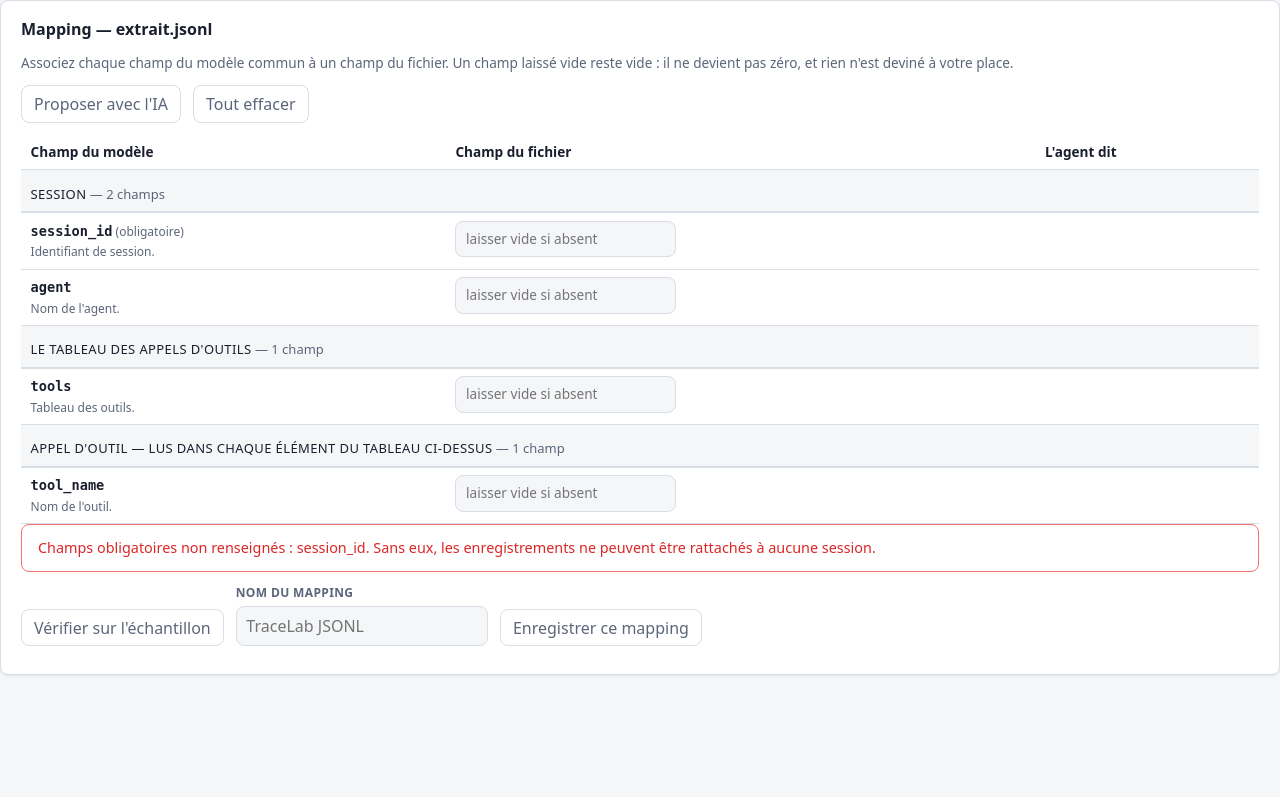
Scenario: MappingEditor — l'essai à blanc › montre ce que l'import produirait
In the field named "Champ du fichier pour session_id": (566,239) [455, 221, 676, 257], type "sid"
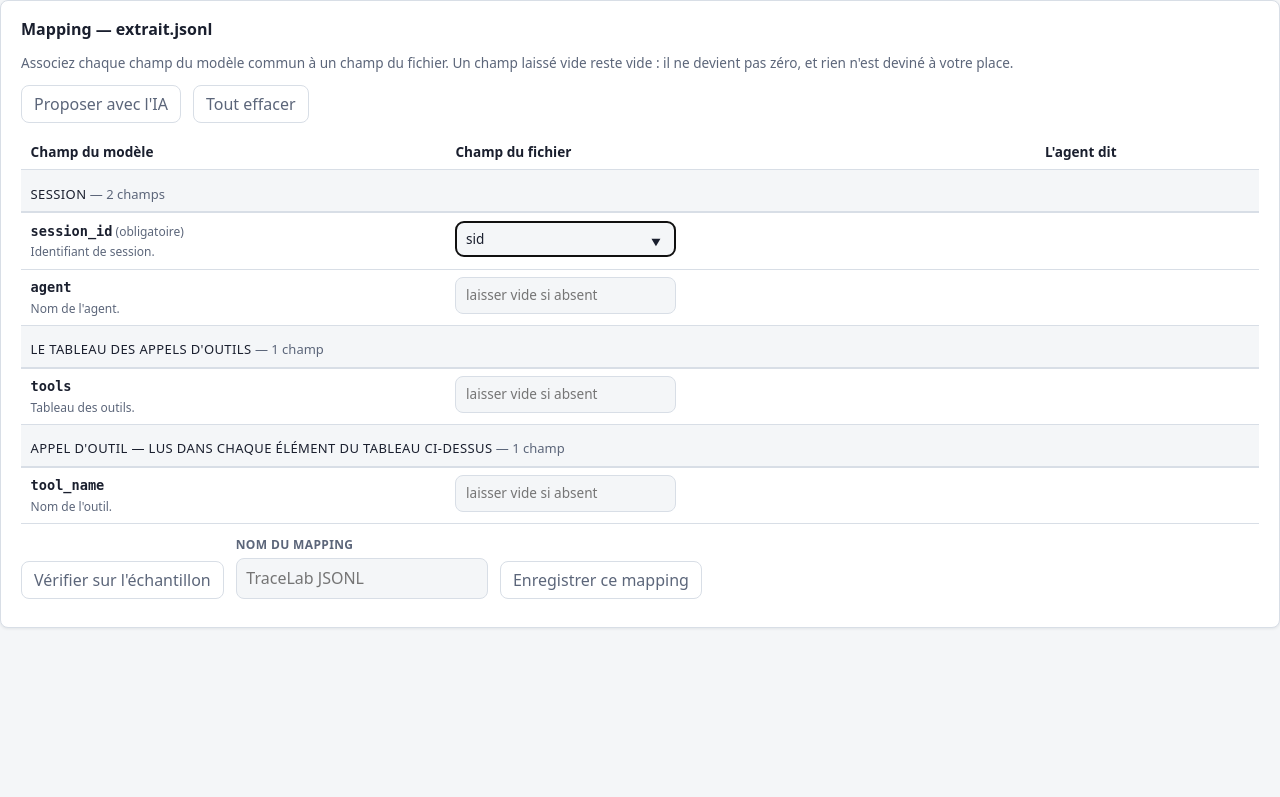
Click the button "Vérifier sur l'échantillon": (122,580) [21, 561, 224, 599]
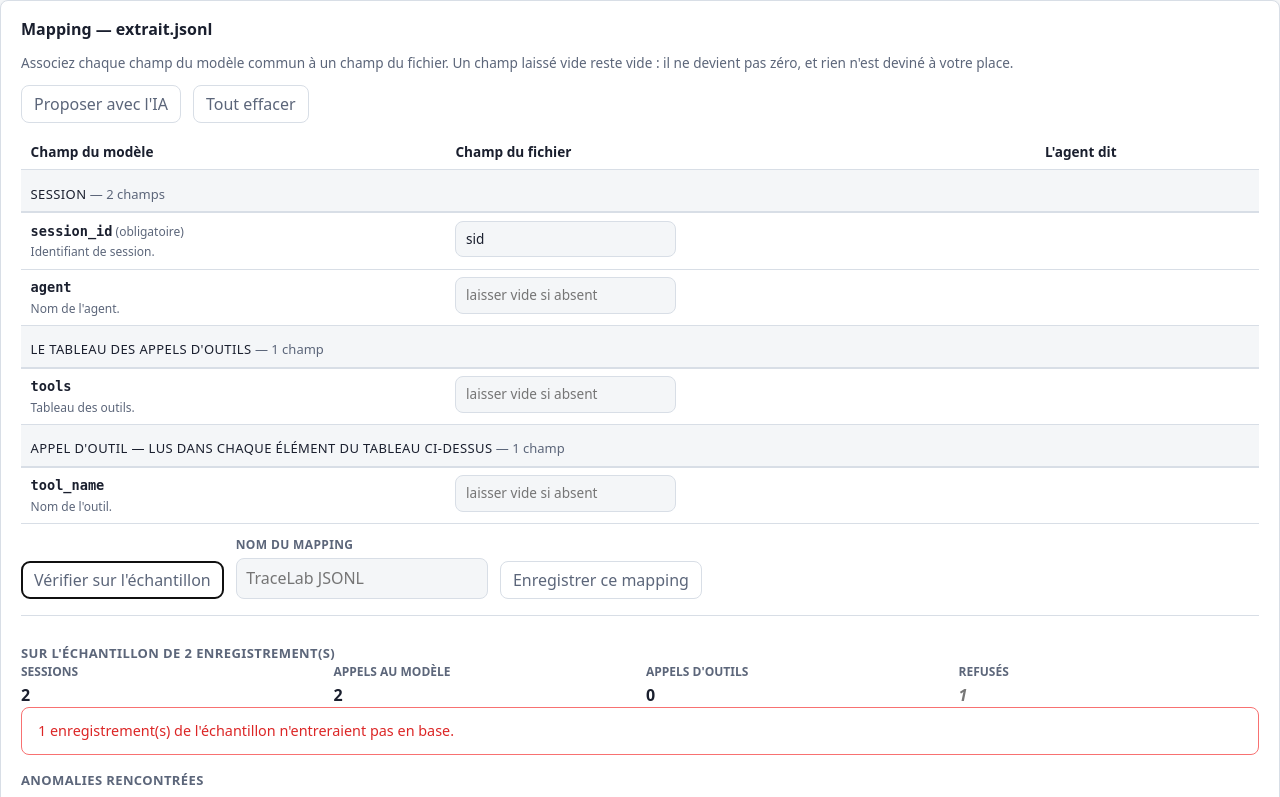
Expected: the text "Sessions" is shown, [21, 663, 78, 680]
Expected: the heading "Sur l'échantillon de 2 enregistrement(s)" is shown, [21, 644, 335, 662]
